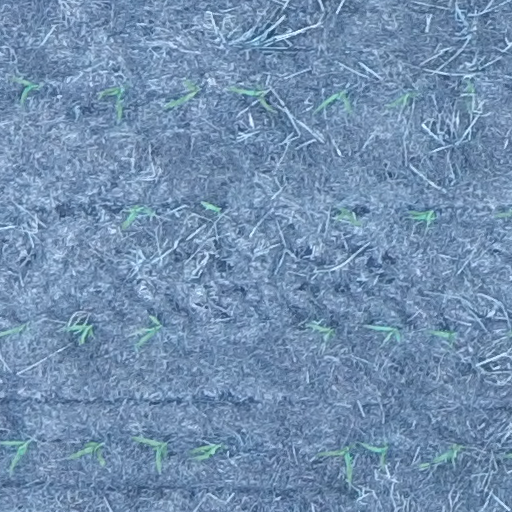planta: (227, 83, 276, 112), (319, 445, 354, 482), (132, 436, 168, 470), (419, 444, 464, 468), (163, 81, 200, 108), (135, 314, 163, 348), (71, 440, 105, 466), (120, 205, 155, 230), (316, 90, 353, 113), (101, 86, 126, 120), (10, 77, 41, 104), (359, 441, 390, 466), (64, 323, 94, 344), (188, 443, 222, 461), (308, 322, 336, 342), (427, 327, 456, 346), (409, 209, 437, 228), (389, 91, 418, 108), (372, 325, 403, 340), (337, 207, 361, 226), (464, 79, 476, 108), (199, 200, 222, 213)
